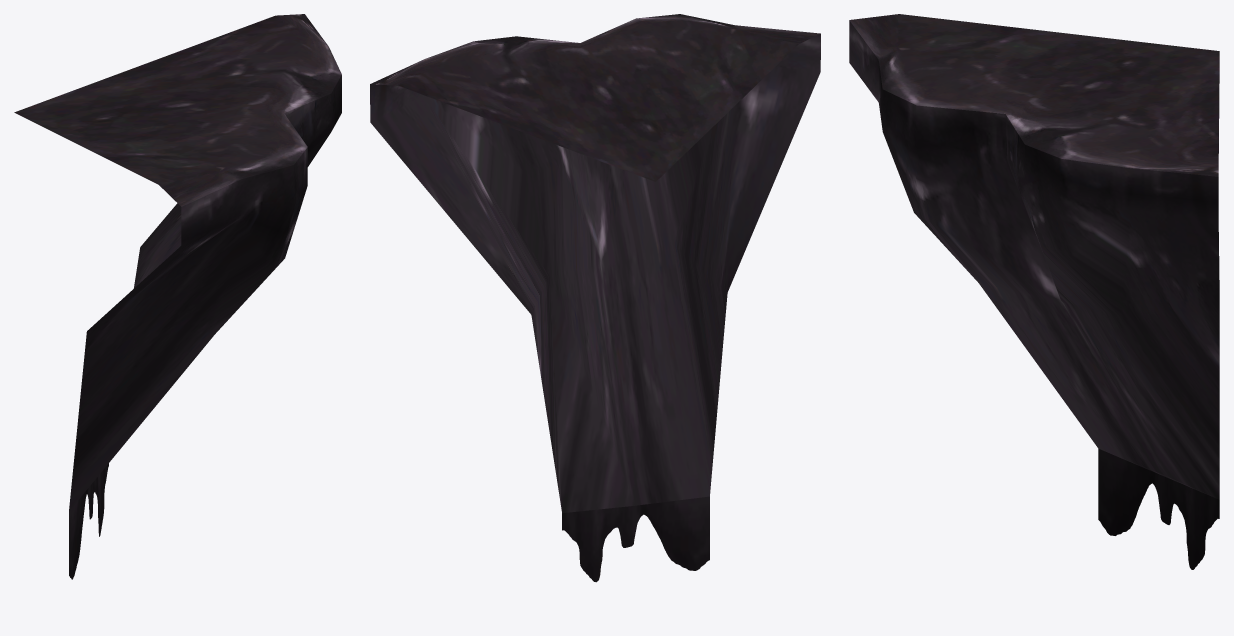
The model's file is cave_trim_convex_01.fbx.
3 views of the same model, side by side, from view 1: azimuth 30°, elevation 25°; view 2: azimuth 150°, elevation 25°; view 3: azimuth 270°, elevation 25° (orthographic). The views are drawn at different scales.
Parts seen in each view (by area): view 1: cave_tileset/trim01_mat; view 2: cave_tileset/trim01_mat; view 3: cave_tileset/trim01_mat.
Boxes of the visible parts, bbox=[...] form: cave_tileset/trim01_mat: bbox=[14, 14, 341, 579]; cave_tileset/trim01_mat: bbox=[370, 14, 820, 582]; cave_tileset/trim01_mat: bbox=[849, 14, 1219, 569].
Size of the model in its own units: 1.18 by 1.95 by 1.18.
